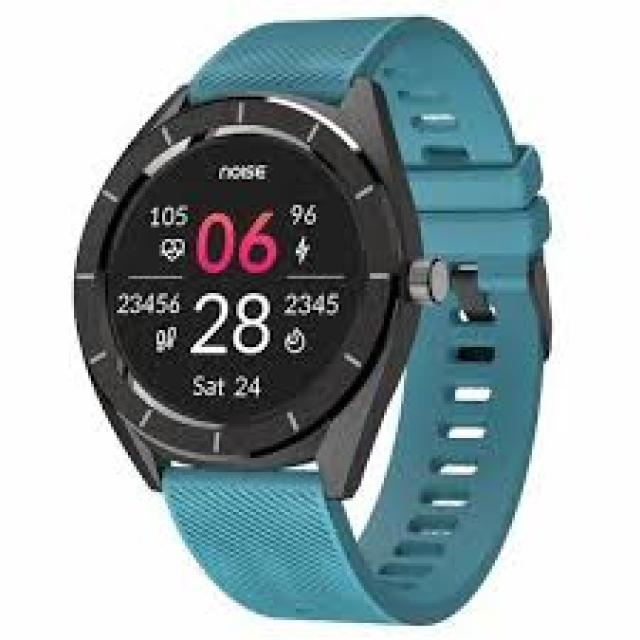objects: (74, 17, 550, 628)
